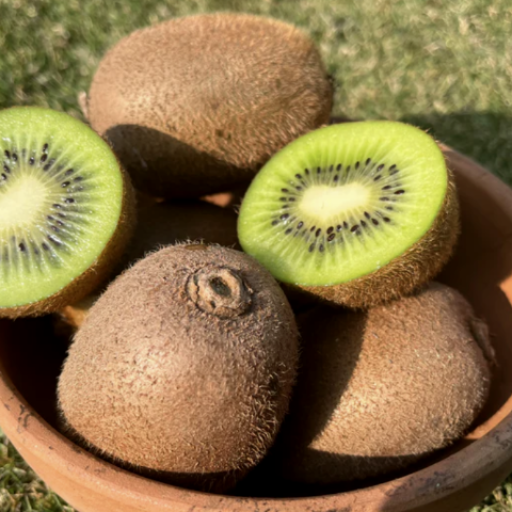kiwi: (47, 202, 314, 500), (62, 7, 340, 206)
